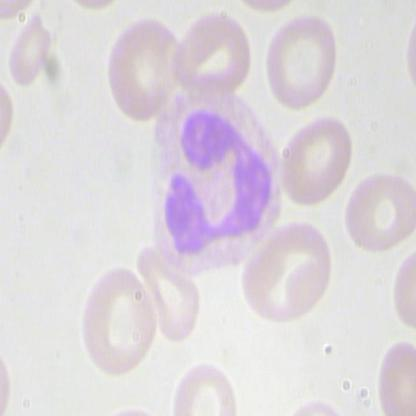RBC: (240, 217, 332, 331), (75, 262, 157, 376), (98, 18, 187, 121), (273, 110, 356, 209), (260, 14, 342, 112), (134, 245, 209, 342), (177, 1, 254, 94), (346, 171, 416, 252), (163, 356, 240, 415), (3, 11, 62, 86), (368, 337, 415, 416)
WBC: (130, 83, 285, 269)
